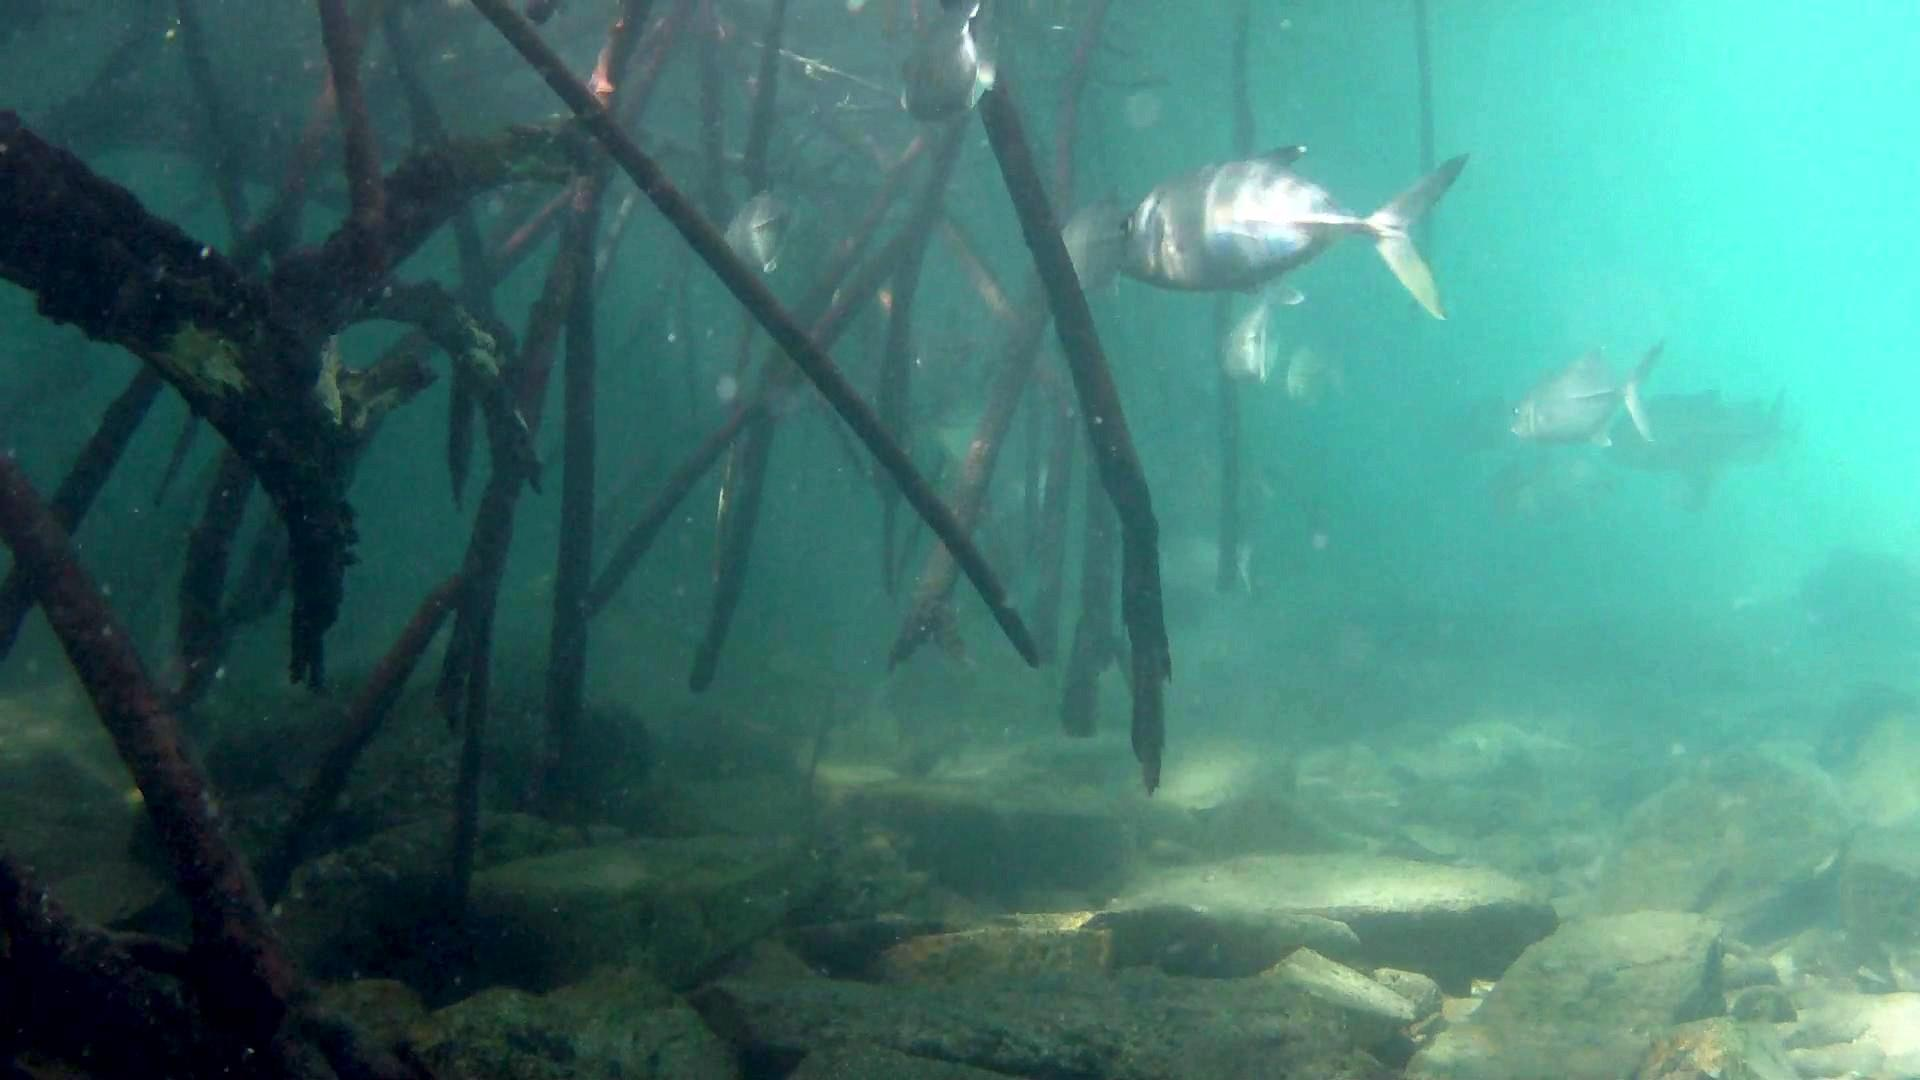caranx: (1101, 131, 1489, 339)
